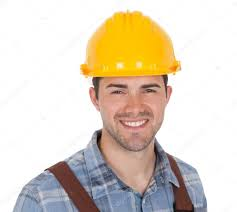Person_wearing_helmet: (73, 6, 180, 106)
